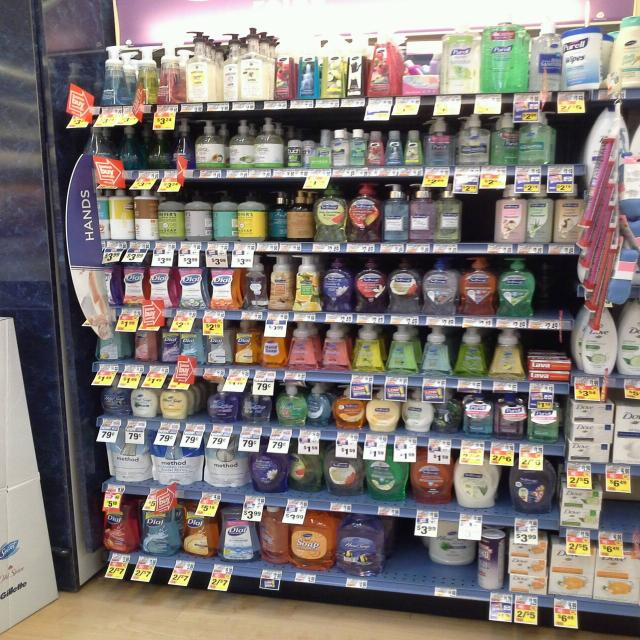void: (533, 256, 571, 336), (390, 516, 424, 598)
